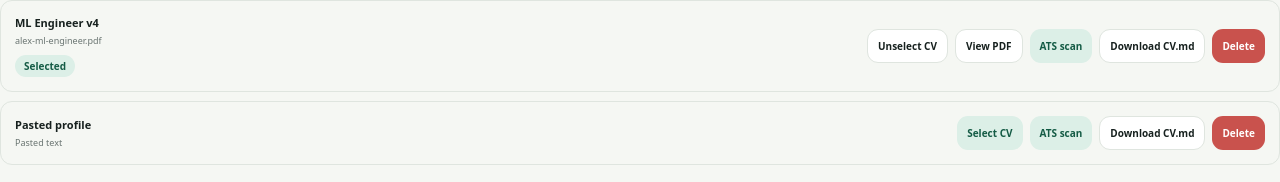
Test case: CvLibrary › unselects the default CV and leaves future choices blank
Click the button with aria-label "Unselect CV for ML Engineer v4" at (907, 46), box top-left (867, 29), bottom-right (948, 63)
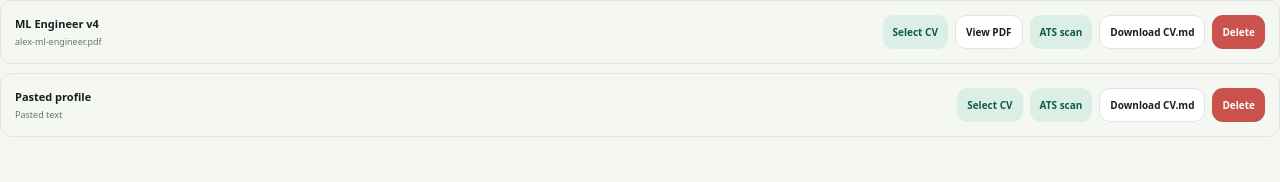
Expected: the button with aria-label "Select CV for ML Engineer v4" is shown, top-left (883, 15), bottom-right (948, 49)
Expected: the text "Selected" is gone
